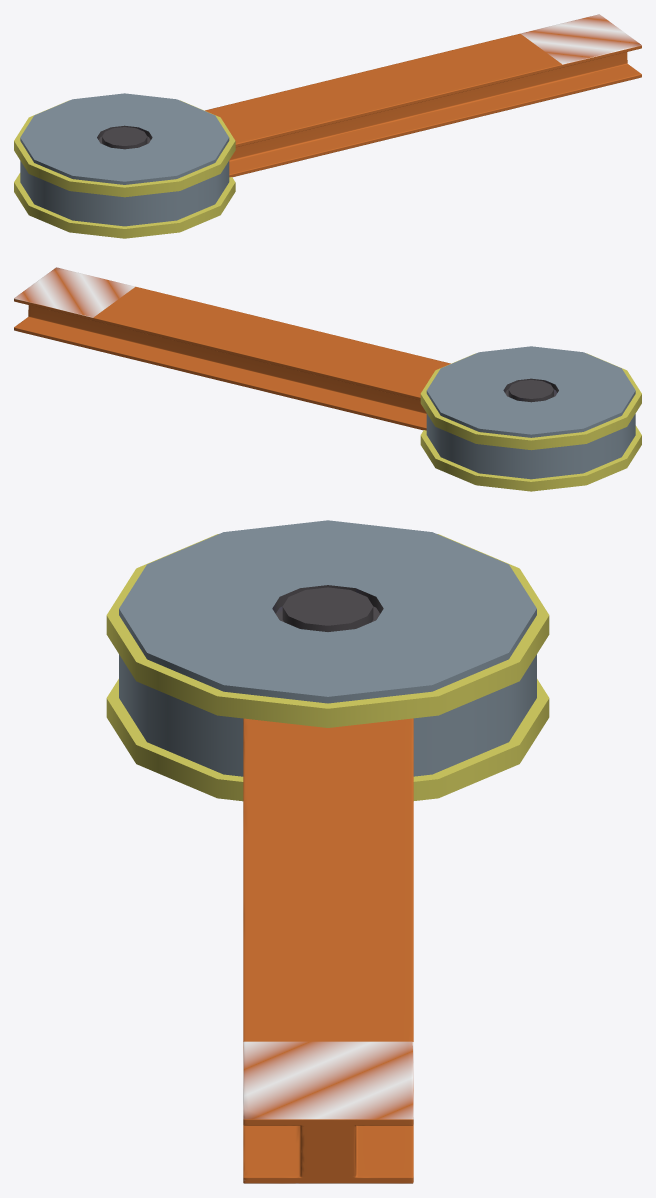
Rendered from Construction.fbx.
The picture shows the model from 3 angles, top to bottom: view 1: azimuth 30°, elevation 25°; view 2: azimuth 150°, elevation 25°; view 3: azimuth 270°, elevation 25°; orthographic projection. The views are drawn at different scales.
Visible parts, largest first — view 1: trussUpright.009, Cylinder.002; view 2: trussUpright.009, Cylinder.002; view 3: Cylinder.002, trussUpright.009.
Boxes of the visible parts, x1,y1,x2,y2 form: trussUpright.009: [205, 14, 641, 177]; Cylinder.002: [14, 93, 235, 238]; trussUpright.009: [14, 267, 450, 430]; Cylinder.002: [420, 346, 641, 491]; Cylinder.002: [106, 520, 549, 801]; trussUpright.009: [243, 718, 413, 1183].
Bounding box in the file's own units: 654 × 212 × 58.45.
